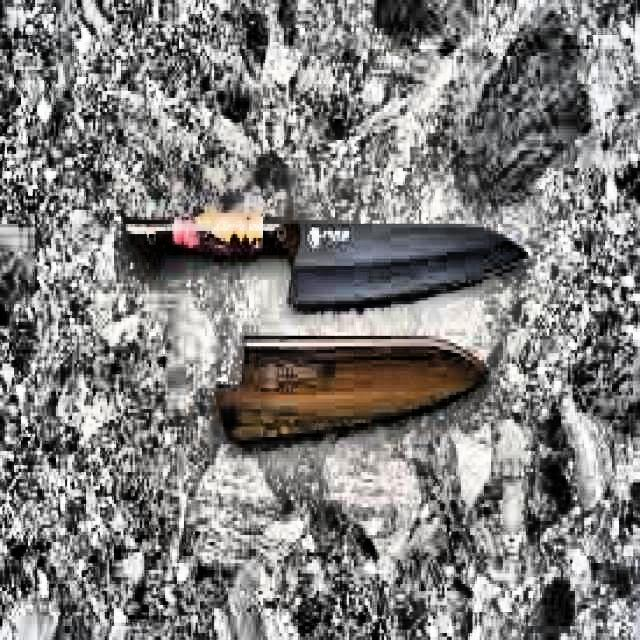knife: (119, 203, 532, 324)
